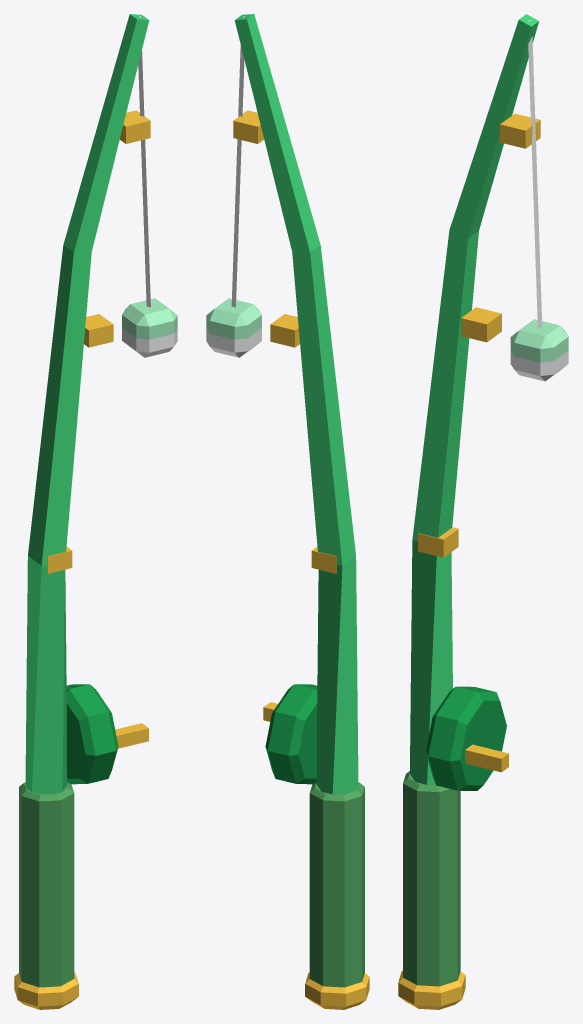
Rendered from EmeraldFishingRod.fbx.
3 renders of one model, left to right at view 1: azimuth 30°, elevation 25°; view 2: azimuth 150°, elevation 25°; view 3: azimuth 330°, elevation 25°, orthographic. The views are drawn at different scales.
Parts seen in each view (by area): view 1: EmeraldFishingRod; view 2: EmeraldFishingRod; view 3: EmeraldFishingRod.
Boxes of the visible parts, box(x1,y1,x2,y2) form: EmeraldFishingRod: box(14, 14, 177, 1009); EmeraldFishingRod: box(206, 14, 369, 1009); EmeraldFishingRod: box(398, 14, 568, 1009).
Bounding box in the file's own units: 0.74 × 4.45 × 0.44.
1 material, 1 textured.
